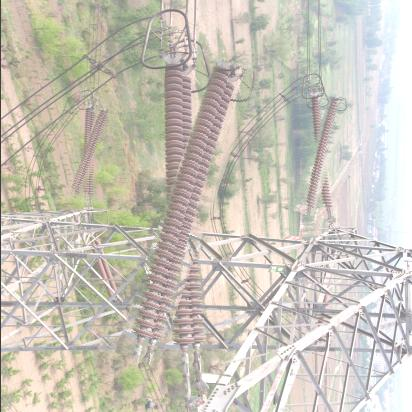insulator: (139, 59, 234, 369), (300, 94, 344, 217), (76, 107, 105, 202)
